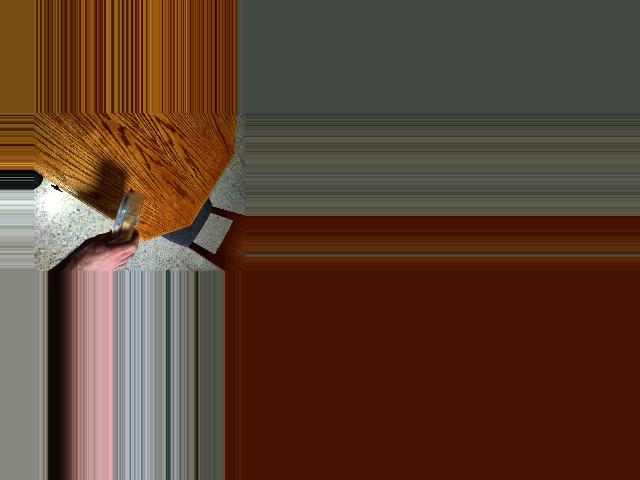cheese: (108, 198, 148, 243)
